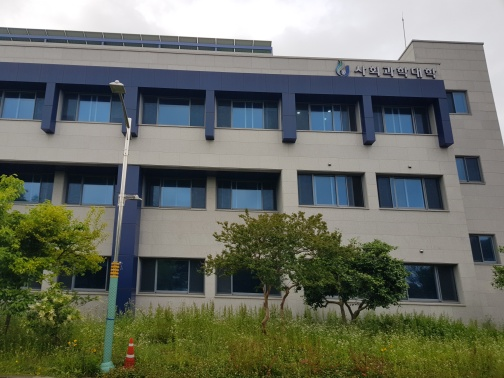College of Social Sciences: (14, 17, 504, 345), (30, 53, 303, 154), (330, 55, 443, 83)
